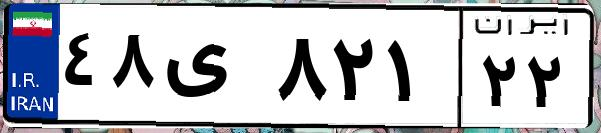1: (385, 28, 445, 110)
2: (330, 28, 385, 110), (475, 38, 525, 113), (525, 38, 570, 115)
4: (57, 26, 110, 100)
8: (270, 28, 330, 110), (110, 28, 158, 98)
ی: (158, 20, 270, 120)
